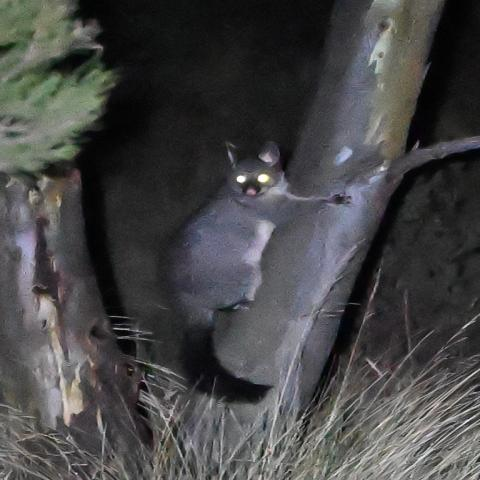small_animal: (154, 140, 358, 410)
